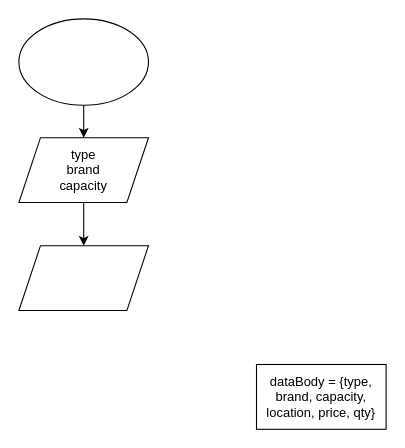
This 405x448 diagram has some shape labels left out. The centre of each missing label's shape, as x and y in pixels:
"location price qty" belongs at point 83,277.
"START" belongs at point 83,61.
